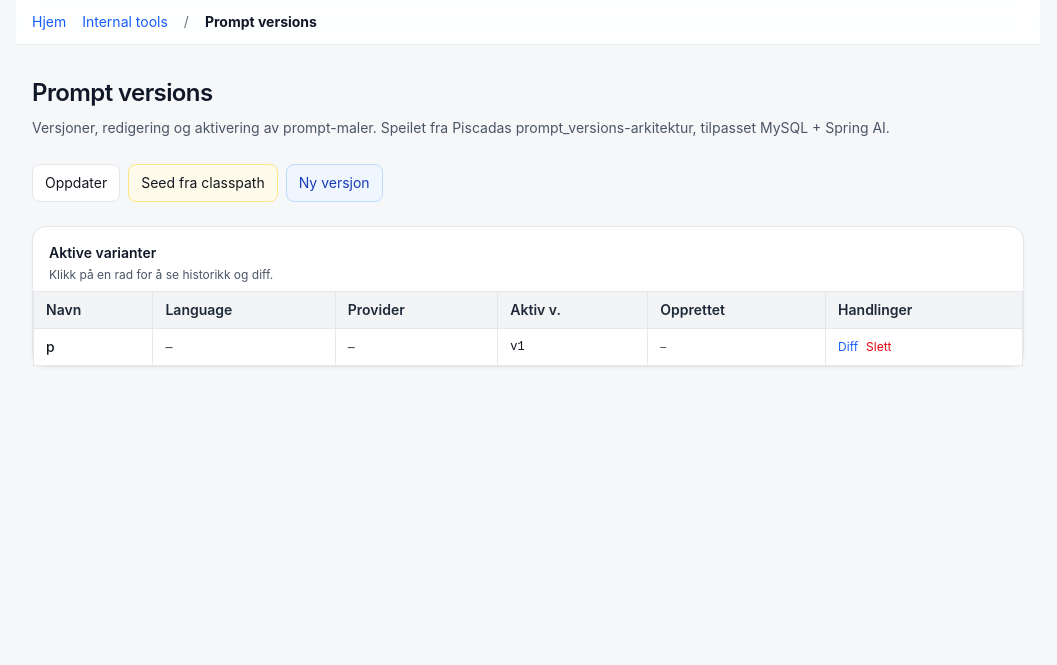
Admin CRUD views (integration-style) › AdminPromptsView expands a history row to show full content
This screenshot has width=1057, height=665.
Click the row "p – – v1 – Diff Slett". click: click(528, 347)
box: [34,328,1022,365]
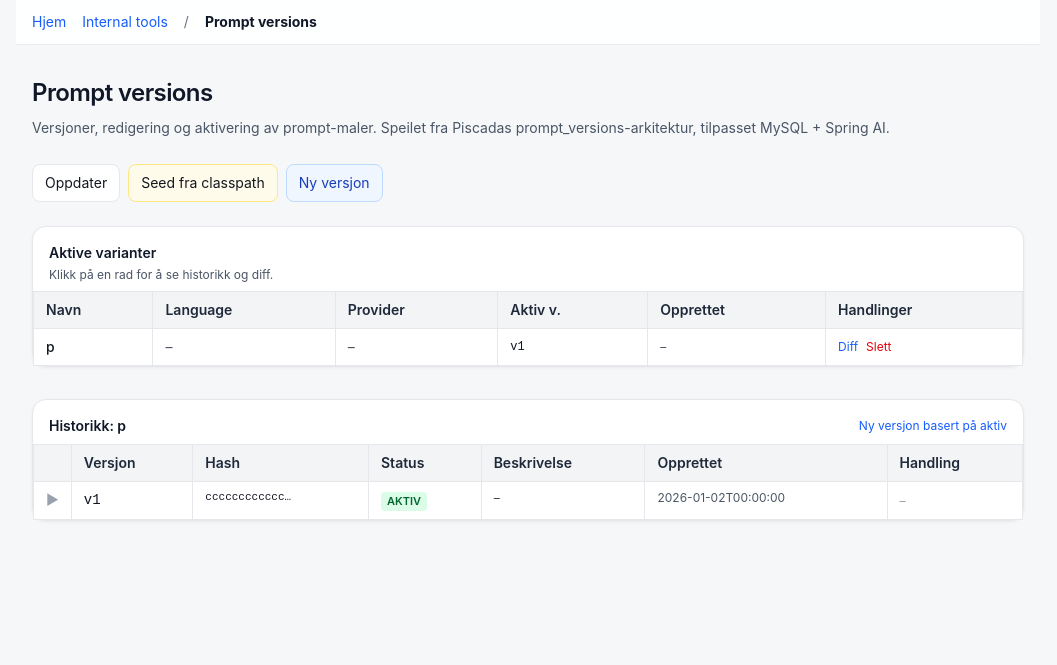
Expected: the row "▶ v1 cccccccccccc… AKTIV – 2026-01-02T00:00:00 –" is shown
Click the row "▶ v1 cccccccccccc… AKTIV – 2026-01-02T00:00:00 –". click: click(528, 501)
box: [34,481,1022,520]
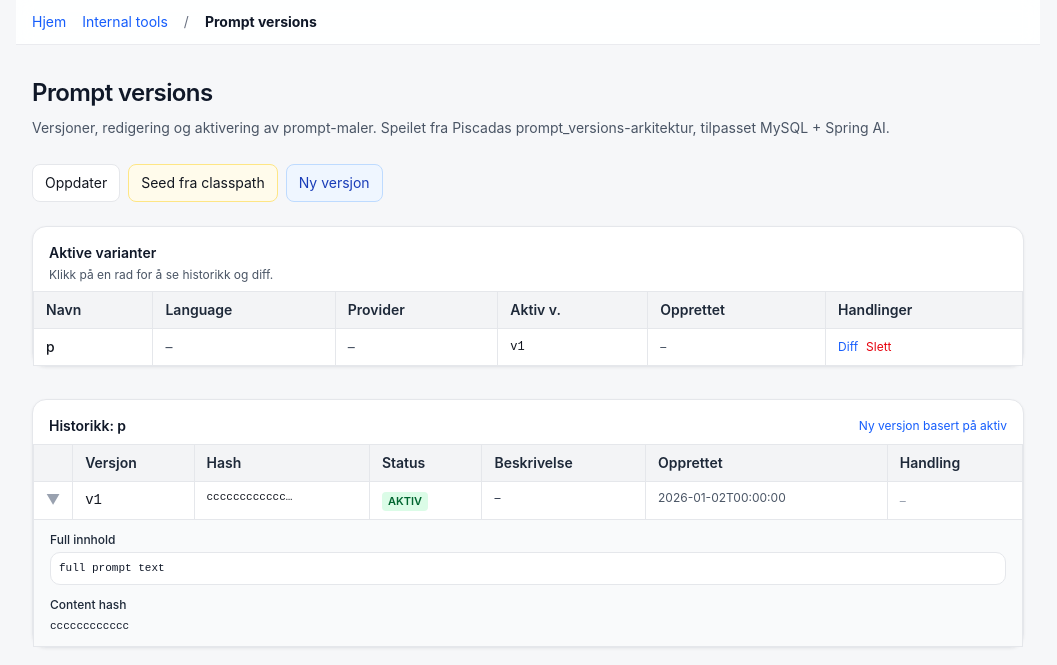
Expected: the text "full prompt text" is shown, [50,552,1006,585]
